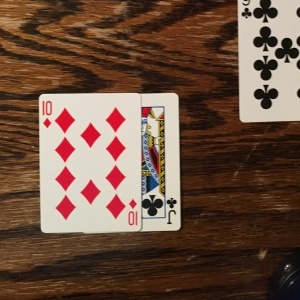card: (39, 91, 143, 232), (139, 90, 181, 232)
